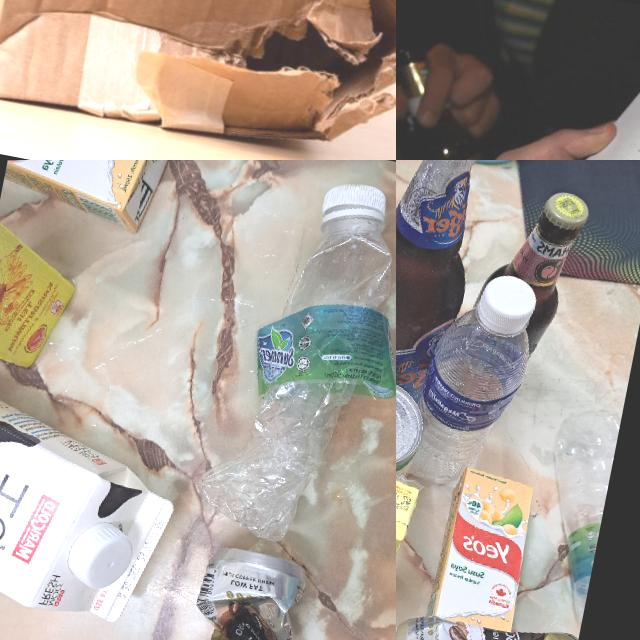caixinha: (0, 381, 188, 630), (430, 468, 539, 636), (0, 160, 178, 237), (0, 220, 87, 377)
garrafa de vidro: (396, 160, 499, 416), (467, 184, 591, 378)
garrafa plástica: (188, 200, 396, 559), (406, 304, 536, 496), (520, 400, 622, 640)
lata: (171, 542, 339, 640), (396, 597, 579, 640), (396, 373, 427, 520)
papel: (482, 32, 640, 160)
papelão: (0, 0, 396, 160)
tampa plástica: (66, 520, 135, 596), (474, 274, 540, 334), (318, 178, 391, 232)
